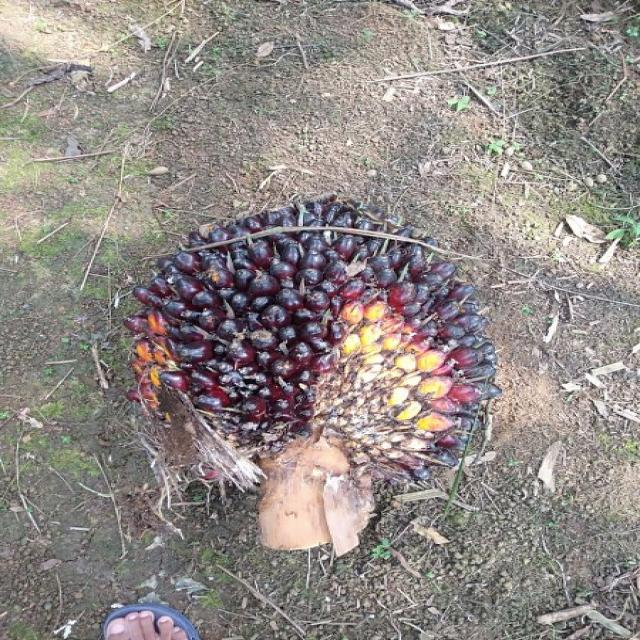fraksi 00: (123, 194, 498, 478)
